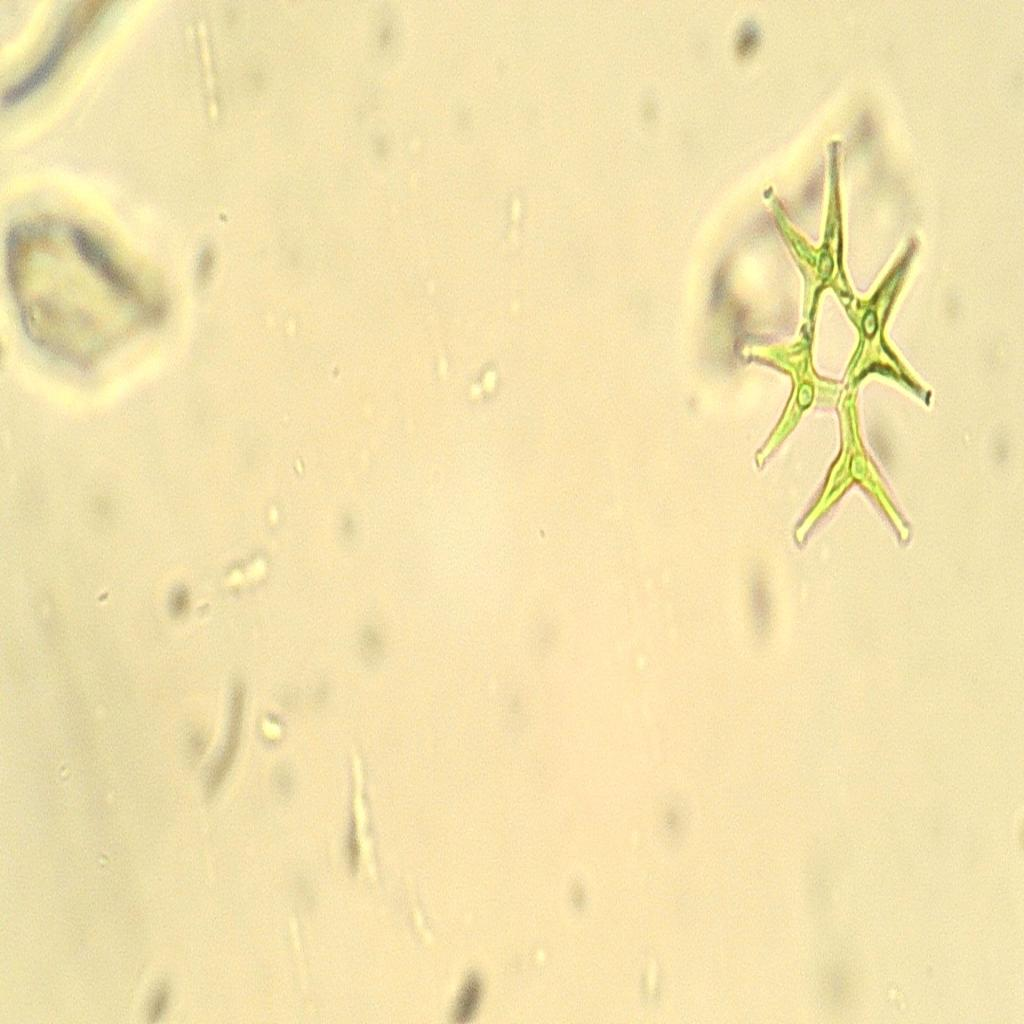Pediastrum_75FI: (712, 123, 964, 575)
